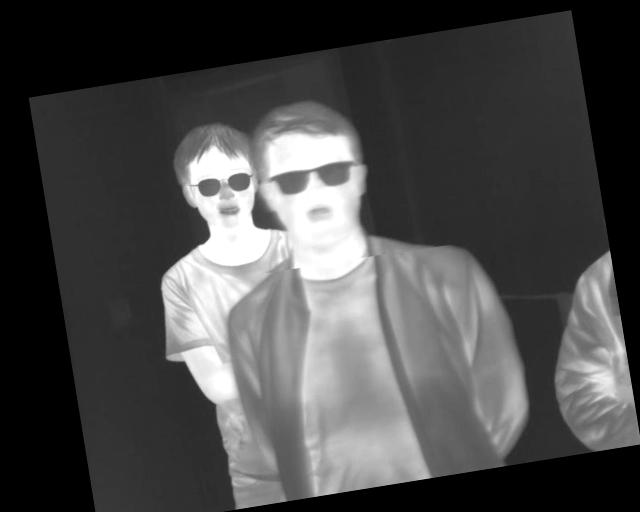face: (247, 88, 378, 258), (166, 114, 263, 237)
